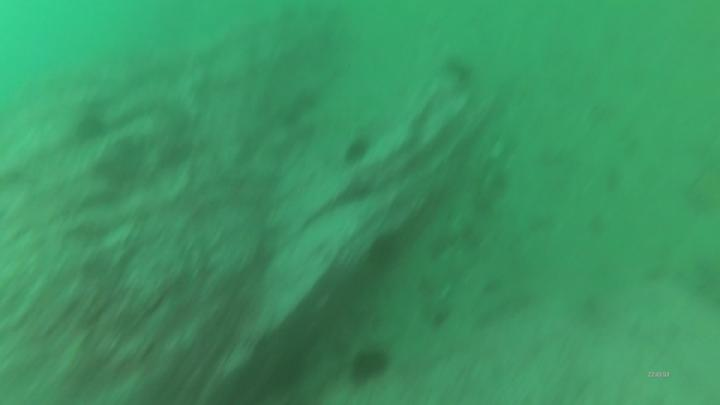echinus: (344, 346, 391, 390), (73, 115, 108, 146), (342, 138, 372, 166)
